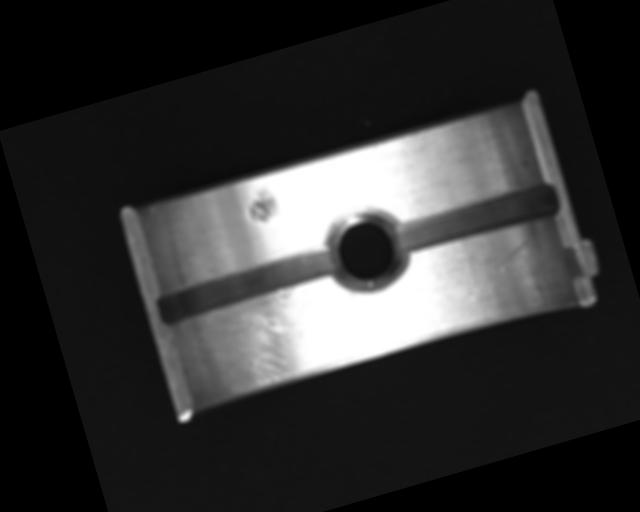bruise: (243, 185, 281, 228)
gap: (154, 241, 344, 329), (392, 179, 561, 258)
hole: (319, 199, 414, 298)
nick: (455, 233, 546, 303)
scratch: (174, 273, 363, 408)
